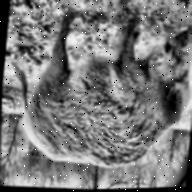boar: (2, 5, 192, 178)
